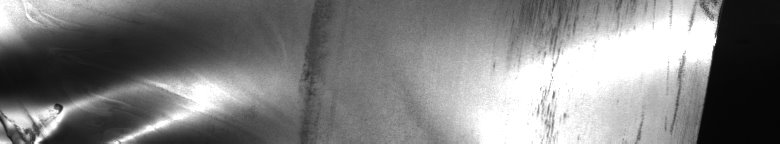ke: (4, 13, 220, 136)
